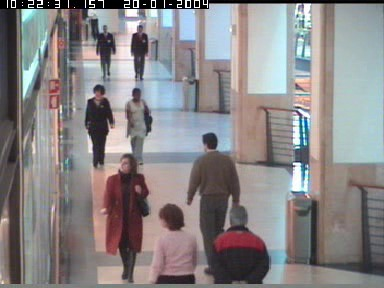person: (186, 132, 240, 284), (100, 153, 150, 282), (207, 205, 269, 285), (150, 203, 198, 283), (123, 85, 153, 167), (84, 85, 113, 167), (129, 24, 149, 80), (96, 25, 115, 79), (87, 9, 100, 41)
